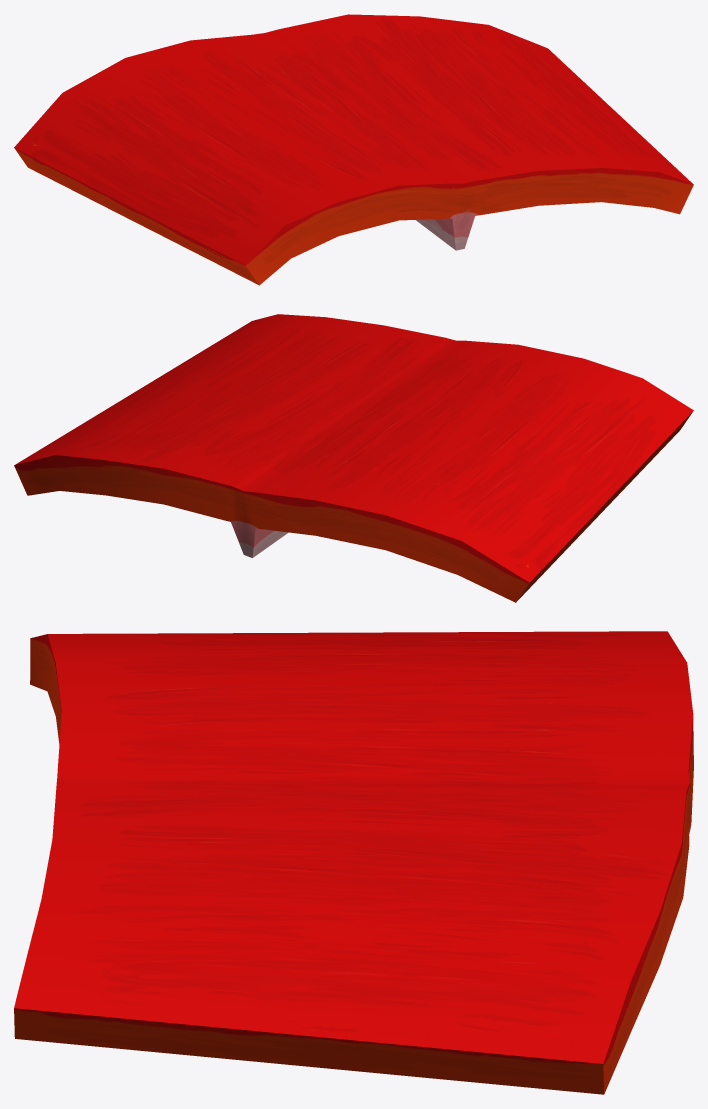
Rendered from RedPepper.gltf.
3 renders of one model, top to bottom at view 1: azimuth 30°, elevation 25°; view 2: azimuth 150°, elevation 25°; view 3: azimuth 270°, elevation 25°, orthographic. The views are drawn at different scales.
Parts seen in each view (by area): view 1: pepperRed; view 2: pepperRed; view 3: pepperRed.
Boxes of the visible parts, left/top/right/bottom form: pepperRed: left=14, top=14, right=693, bottom=285; pepperRed: left=14, top=314, right=693, bottom=602; pepperRed: left=14, top=631, right=693, bottom=1094.
Size of the model in its own units: 0.1206 by 0.0214 by 0.0881.
1 material, 1 textured.
